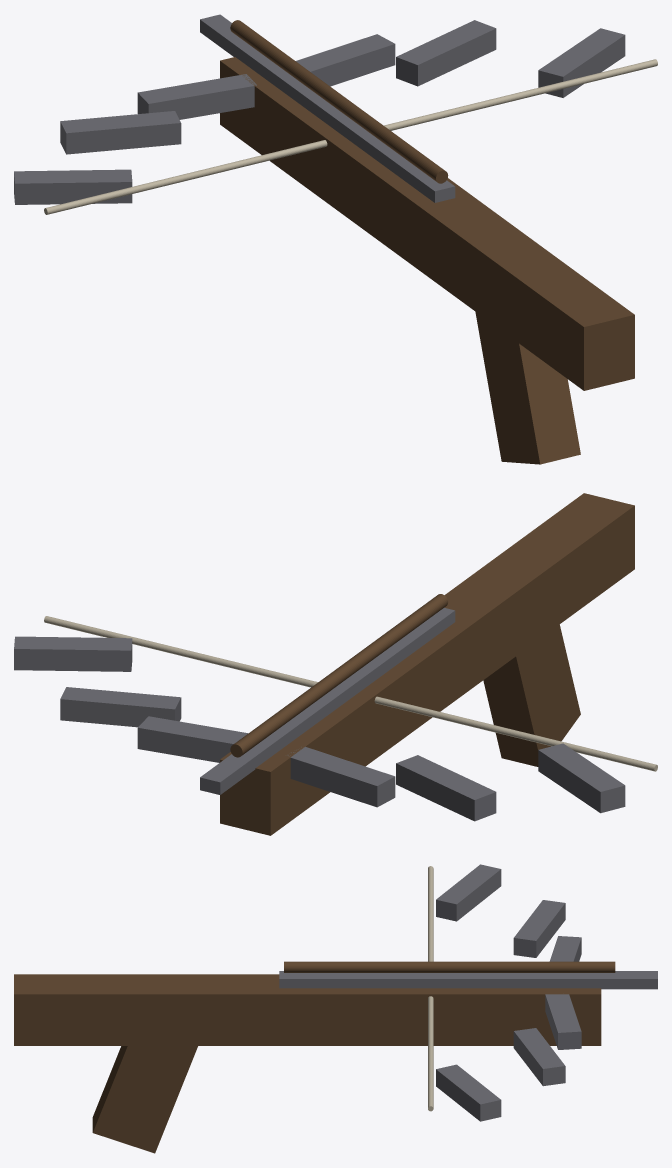
File: Besta.glb
3 views of the same model, one above another, from view 1: azimuth 30°, elevation 25°; view 2: azimuth 150°, elevation 25°; view 3: azimuth 270°, elevation 25° (orthographic). The views are drawn at different scales.
Parts seen in each view (by area): view 1: Coronha, Cabo, Trilho, Cylinder, Arco.001, Cylinder.001, Arco.002, Arco.004, Arco, Arco.005, Arco.003; view 2: Coronha, Cabo, Trilho, Cylinder, Arco.005, Cylinder.001, Arco.004, Arco, Arco.001, Arco.002, Arco.003; view 3: Coronha, Cabo, Trilho, Cylinder.001, Arco.005, Arco.002, Arco.004, Arco.001, Arco.003, Cylinder, Arco.
Part boxes in pixels (bbox=[...]): Coronha: bbox=[220, 57, 634, 390]; Cabo: bbox=[475, 312, 580, 464]; Trilho: bbox=[200, 14, 455, 202]; Cylinder: bbox=[44, 59, 657, 214]; Arco.001: bbox=[60, 111, 181, 154]; Cylinder.001: bbox=[230, 20, 448, 183]; Arco.002: bbox=[14, 169, 132, 204]; Arco.004: bbox=[396, 20, 496, 86]; Arco: bbox=[137, 74, 256, 119]; Arco.005: bbox=[538, 28, 625, 97]; Arco.003: bbox=[296, 34, 395, 86]; Coronha: bbox=[220, 493, 634, 835]; Cabo: bbox=[483, 624, 580, 766]; Trilho: bbox=[200, 607, 455, 794]; Cylinder: bbox=[44, 616, 657, 771]; Arco.005: bbox=[14, 636, 132, 671]; Cylinder.001: bbox=[230, 594, 447, 757]; Arco.004: bbox=[60, 687, 181, 727]; Arco: bbox=[287, 746, 395, 807]; Arco.001: bbox=[396, 755, 496, 821]; Arco.002: bbox=[538, 743, 625, 813]; Arco.003: bbox=[137, 716, 247, 762]; Coronha: bbox=[14, 974, 601, 1045]; Cabo: bbox=[92, 1046, 197, 1153]; Trilho: bbox=[279, 971, 657, 989]; Cylinder.001: bbox=[284, 961, 615, 972]; Arco.005: bbox=[436, 1064, 501, 1121]; Arco.002: bbox=[436, 864, 501, 921]; Arco.004: bbox=[513, 1028, 565, 1086]; Arco.001: bbox=[513, 900, 565, 957]; Arco.003: bbox=[545, 994, 581, 1049]; Cylinder: bbox=[428, 866, 433, 1111]; Arco: bbox=[549, 936, 581, 961].
Size of the model in its own units: 0.6 by 0.2137 by 0.68.
